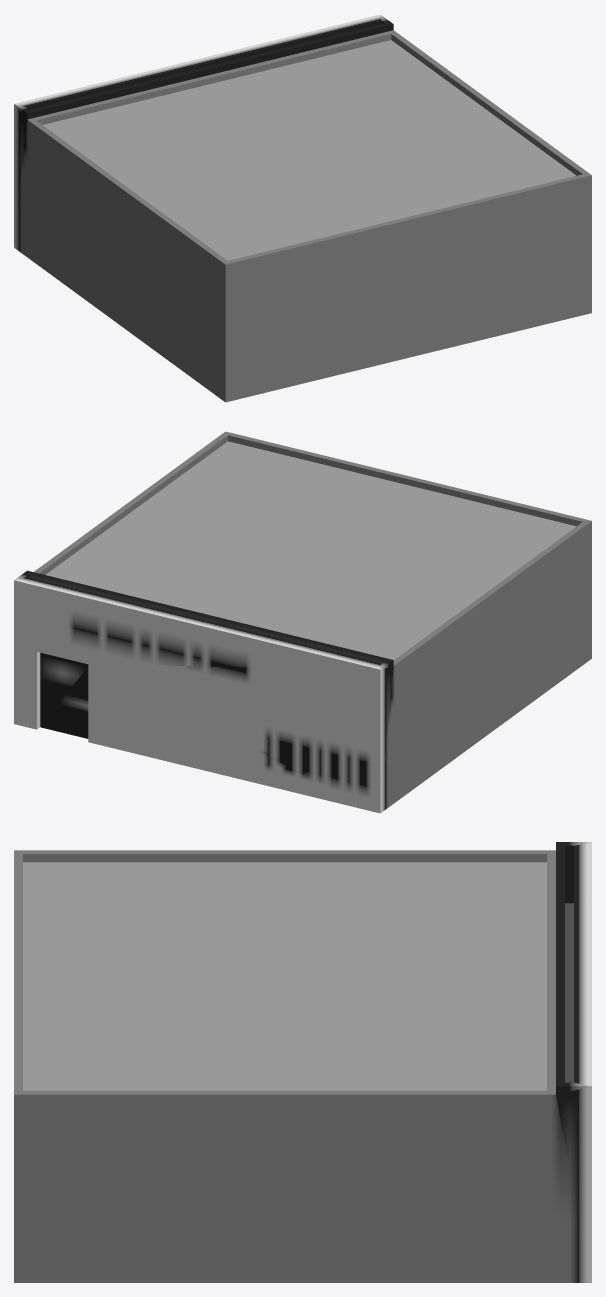
Rendered from obj_store16b.fbx.
3 views of the same model, one above another, from view 1: azimuth 30°, elevation 25°; view 2: azimuth 150°, elevation 25°; view 3: azimuth 270°, elevation 25° (orthographic). The views are drawn at different scales.
Visible parts, largest first — view 1: obj_store16b; view 2: obj_store16b; view 3: obj_store16b.
Boxes of the visible parts, x1,y1,x2,y2 form: obj_store16b: (14,14,591,402); obj_store16b: (14,431,591,813); obj_store16b: (14,842,591,1282).
Size of the model in its own units: 6.4 by 6.4 by 2.4.
1 material, 1 textured.
